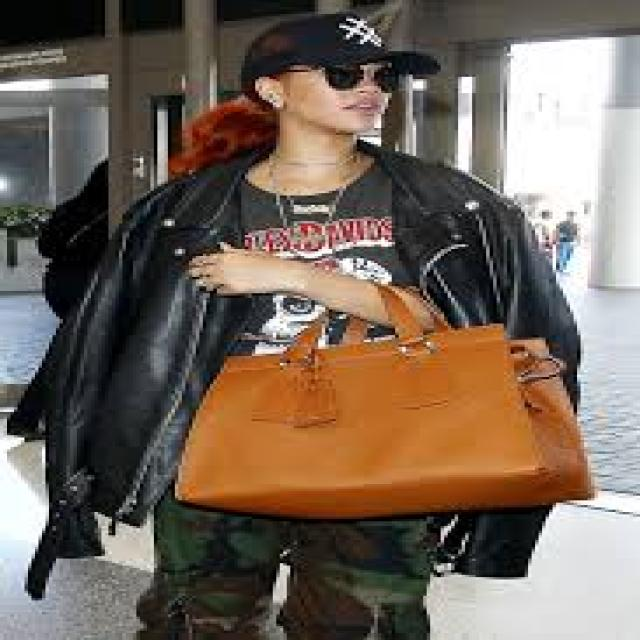cap: (199, 0, 469, 121)
